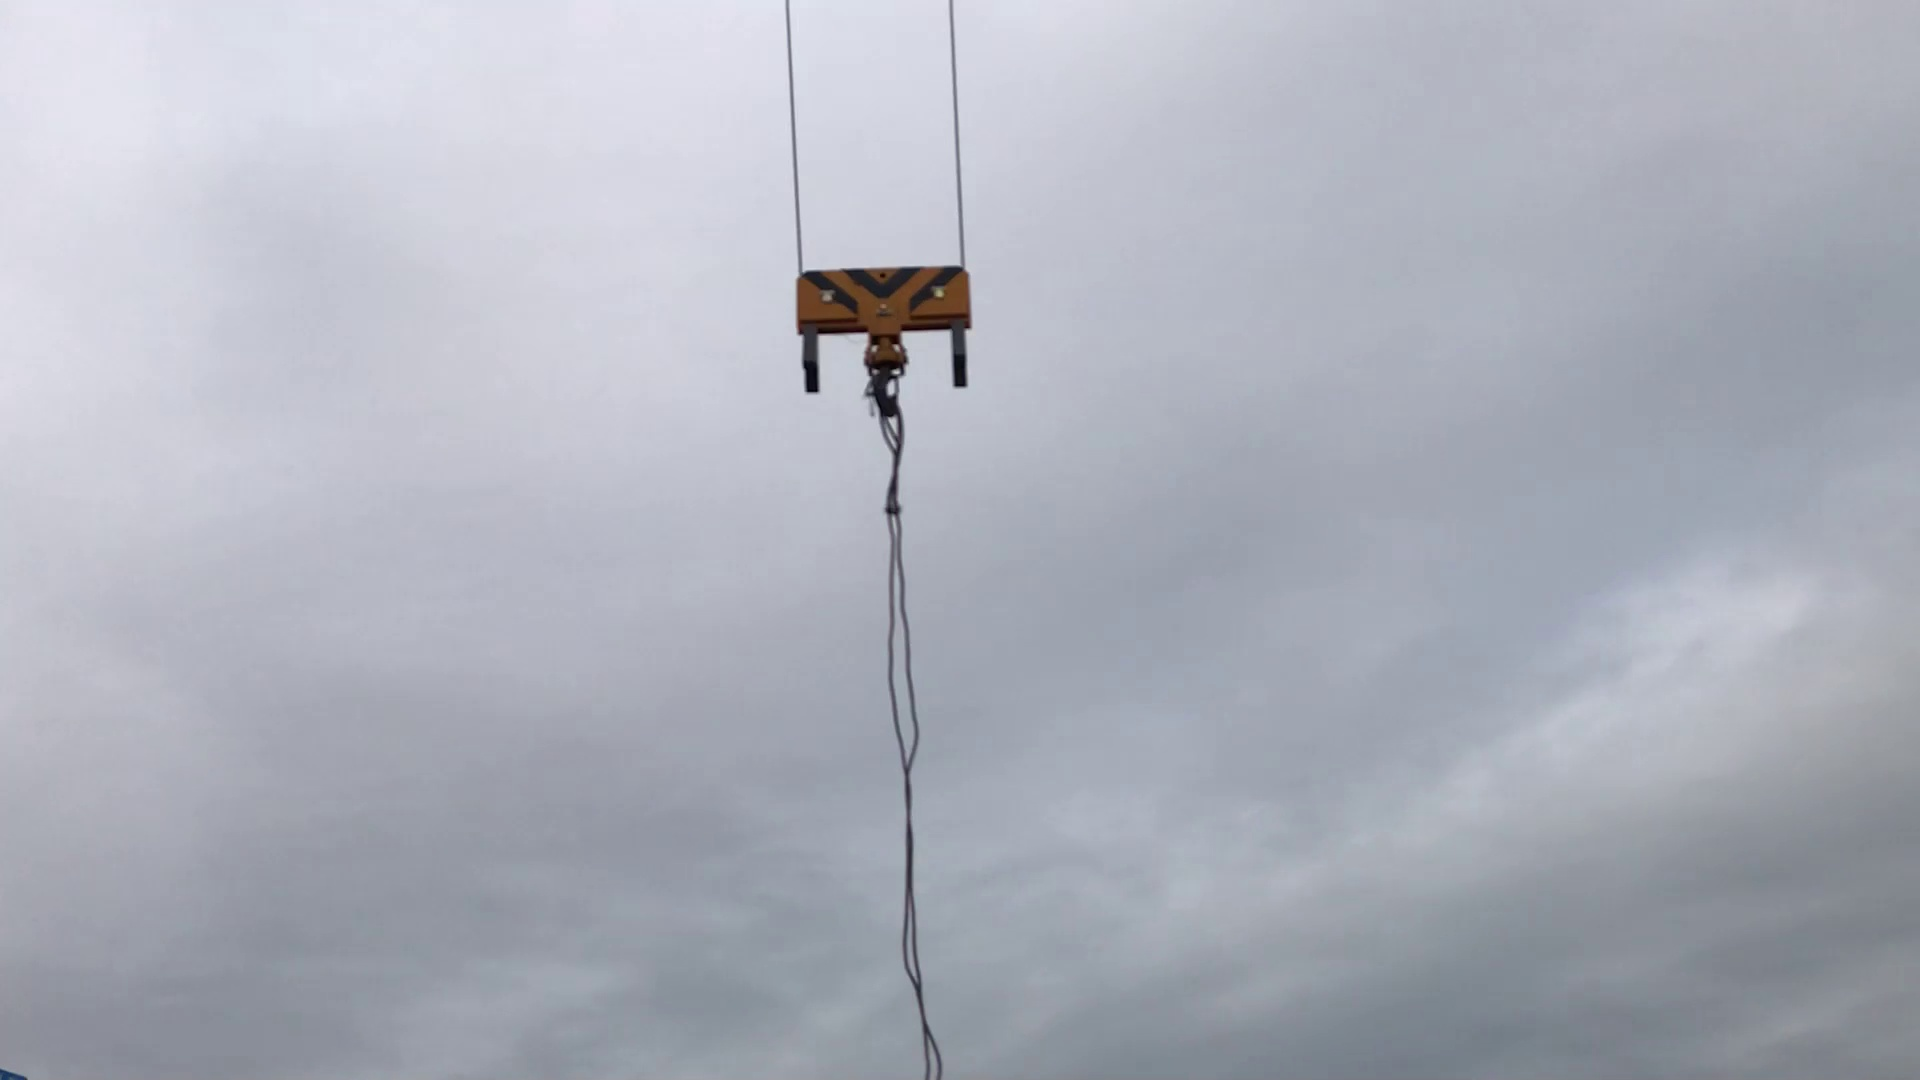hook: (781, 260, 993, 410)
